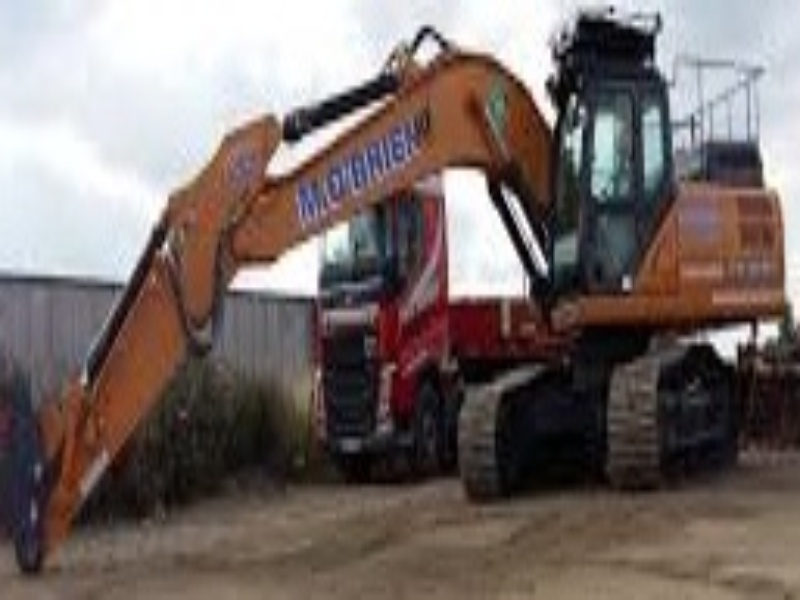wajueji: (385, 5, 792, 504)
